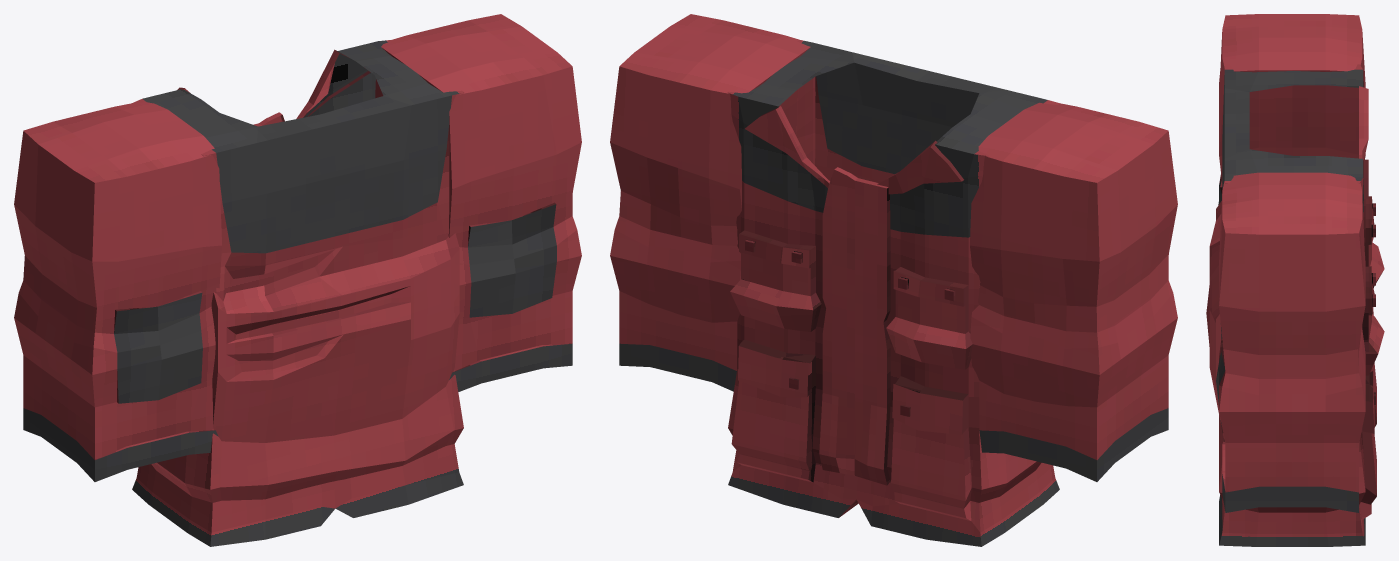
3 renders of one model, left to right at view 1: azimuth 30°, elevation 25°; view 2: azimuth 150°, elevation 25°; view 3: azimuth 270°, elevation 25°, orthographic. The views are drawn at different scales.
Parts seen in each view (by area): view 1: body, left_arm, right_arm; view 2: body, left_arm, right_arm; view 3: right_arm, body, left_arm.
Part boxes in pixels (bbox=[...]): body: bbox=[131, 40, 464, 546]; left_arm: bbox=[14, 102, 221, 481]; right_arm: bbox=[375, 14, 581, 391]; body: bbox=[727, 40, 1060, 546]; left_arm: bbox=[970, 102, 1177, 481]; right_arm: bbox=[610, 14, 815, 391]; right_arm: bbox=[1216, 172, 1365, 512]; body: bbox=[1206, 64, 1384, 546]; left_arm: bbox=[1218, 14, 1365, 204].
Bounding box in the file's own units: 1.04 × 0.8125 × 0.35.
1 material, 1 textured.
